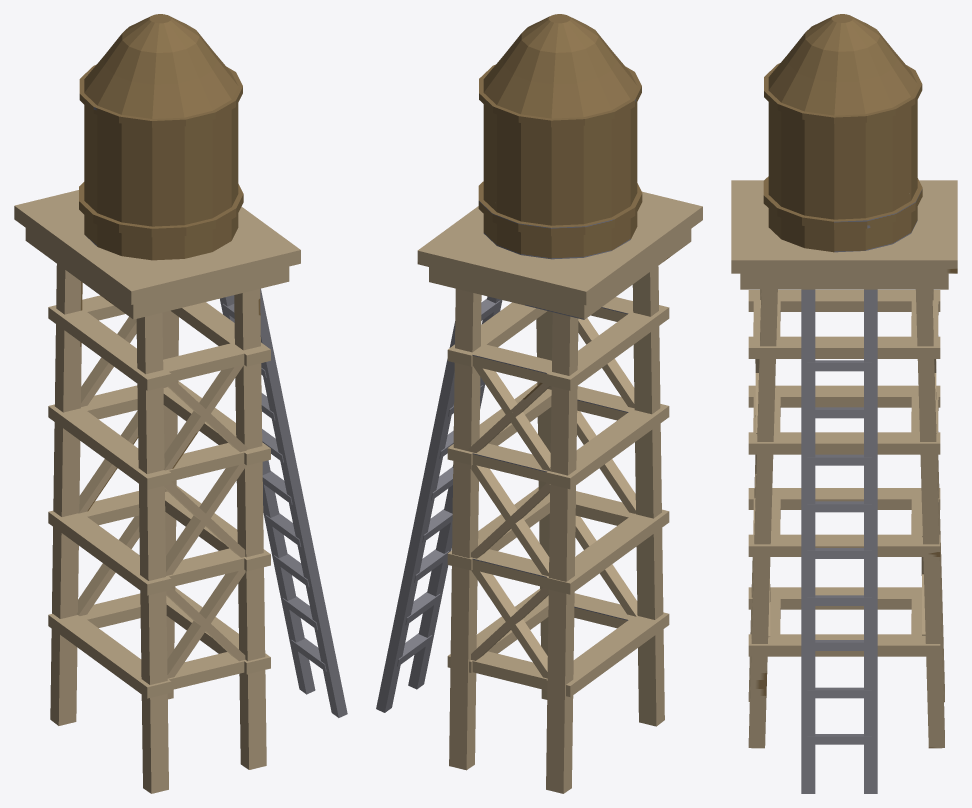
The model's file is WaterTower.fbx.
3 renders of one model, left to right at view 1: azimuth 30°, elevation 25°; view 2: azimuth 150°, elevation 25°; view 3: azimuth 270°, elevation 25°, orthographic. The views are drawn at different scales.
Visible parts, largest first — view 1: WaterTower; view 2: WaterTower; view 3: WaterTower.
Boxes of the visible parts, <box> form: WaterTower: <box>14,14,347,793</box>; WaterTower: <box>376,14,702,793</box>; WaterTower: <box>731,14,957,793</box>.
Size of the model in its own units: 1176 by 3231 by 944.
